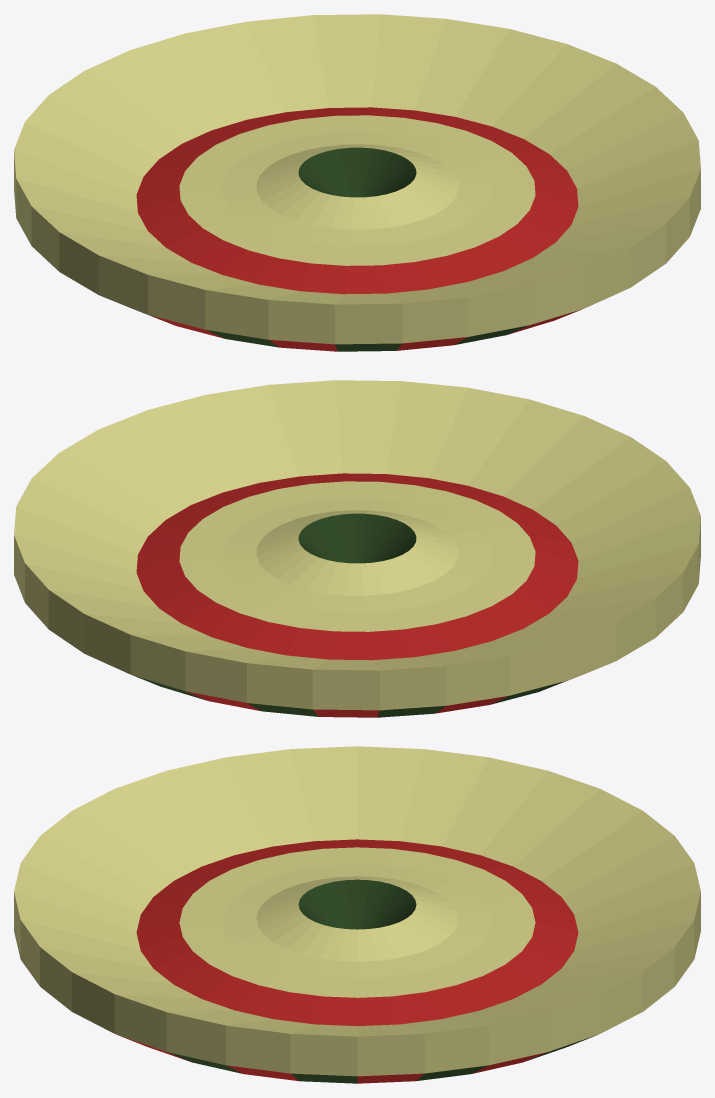
File: Sombrero.fbx
3 views of the same model, one above another, from view 1: azimuth 30°, elevation 25°; view 2: azimuth 150°, elevation 25°; view 3: azimuth 270°, elevation 25° (orthographic).
Parts seen in each view (by area): view 1: Cone; view 2: Cone; view 3: Cone.
Part boxes in pixels (x1=…): Cone: x1=14, y1=14, x2=700, y2=351; Cone: x1=14, y1=380, x2=700, y2=717; Cone: x1=14, y1=746, x2=700, y2=1083.
Size of the model in its own units: 1165 by 124 by 1165.
